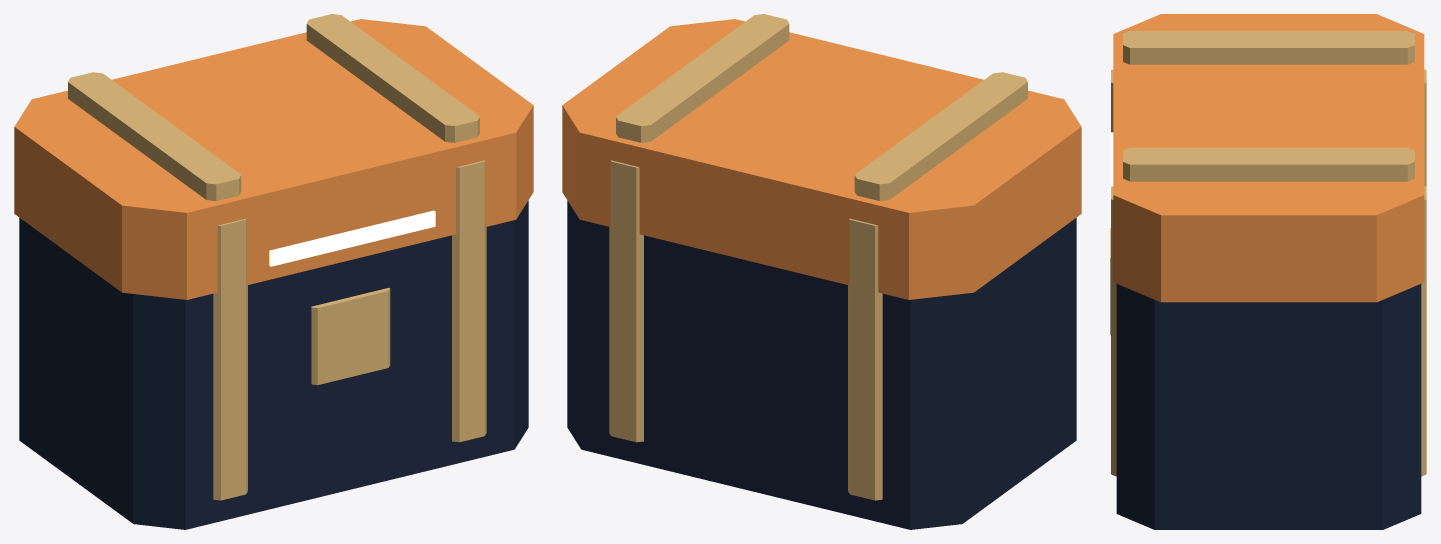
File: loot_crate_rare.glb
The picture shows the model from 3 angles, left to right: view 1: azimuth 30°, elevation 25°; view 2: azimuth 150°, elevation 25°; view 3: azimuth 270°, elevation 25°; orthographic projection.
Visible parts, largest first — view 1: body, lid, strap, light; view 2: body, lid, strap; view 3: body, lid, strap.
Part boxes in pixels (bbox=[...]): body: bbox=[19, 200, 528, 529]; lid: bbox=[14, 19, 533, 299]; strap: bbox=[68, 14, 486, 500]; light: bbox=[269, 210, 435, 266]; body: bbox=[567, 200, 1076, 529]; lid: bbox=[562, 19, 1081, 299]; strap: bbox=[609, 14, 1027, 500]; body: bbox=[1116, 284, 1421, 529]; lid: bbox=[1113, 14, 1424, 302]; strap: bbox=[1110, 31, 1426, 476].
Size of the model in its own units: 0.9 by 0.7 by 0.5985.
